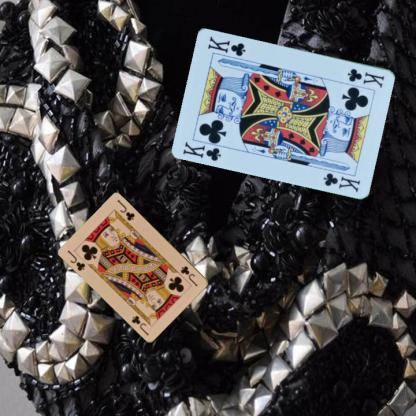Jc: (64, 247, 86, 272), (178, 263, 199, 288)
Kc: (181, 138, 222, 162), (345, 66, 386, 89)
